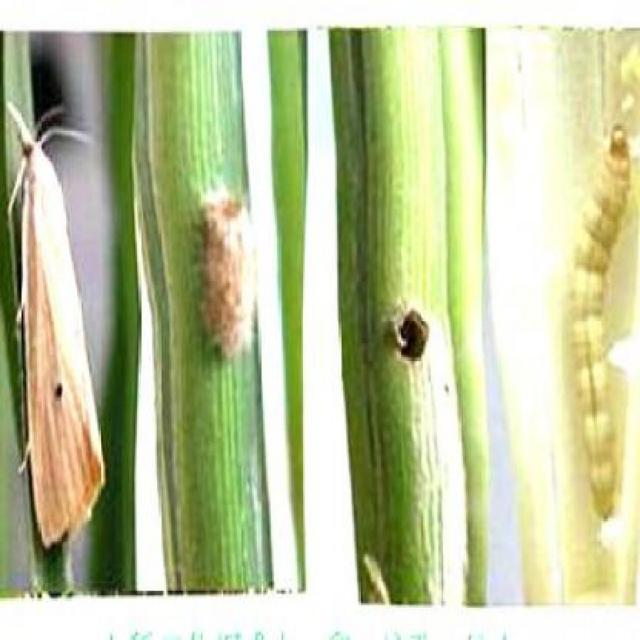stem-borer: (0, 94, 109, 554)
